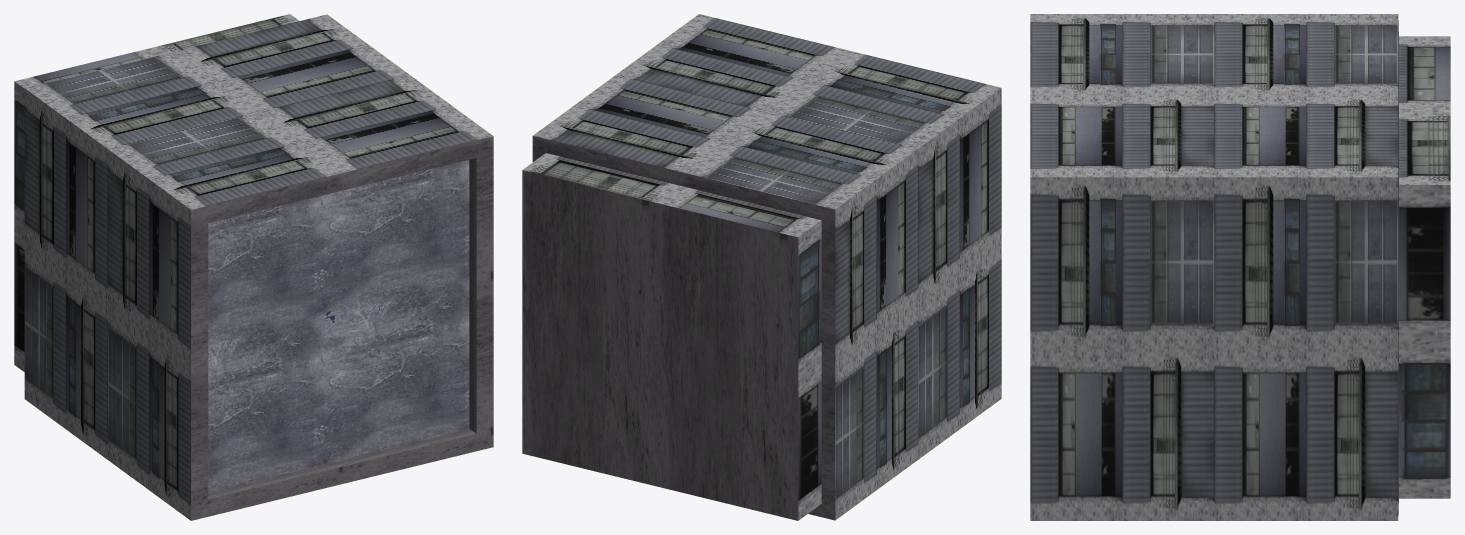
The model's file is urbanoffice2a_wtf.obj.
The picture shows the model from 3 angles, left to right: view 1: azimuth 30°, elevation 25°; view 2: azimuth 150°, elevation 25°; view 3: azimuth 270°, elevation 25°; orthographic projection. The views are drawn at different scales.
Visible parts, largest first — view 1: group5, group4, group3; view 2: group5, group3; view 3: group5, group3.
Part boxes in pixels (<box>): group5: <box>14,14,493,520</box>; group4: <box>208,160,469,492</box>; group3: <box>191,136,493,520</box>; group5: <box>523,14,1001,520</box>; group3: <box>522,136,835,520</box>; group5: <box>1030,14,1450,520</box>; group3: <box>1398,20,1398,514</box>.
Size of the model in its own units: 606 by 595 by 660.
